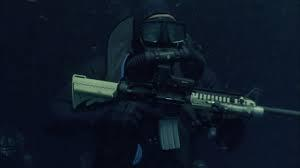rifle: (71, 69, 300, 155)
